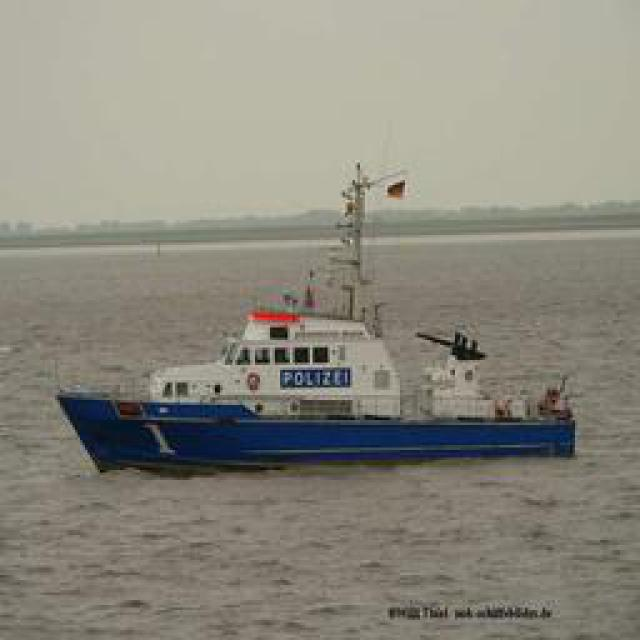Ship: (48, 265, 586, 473)
